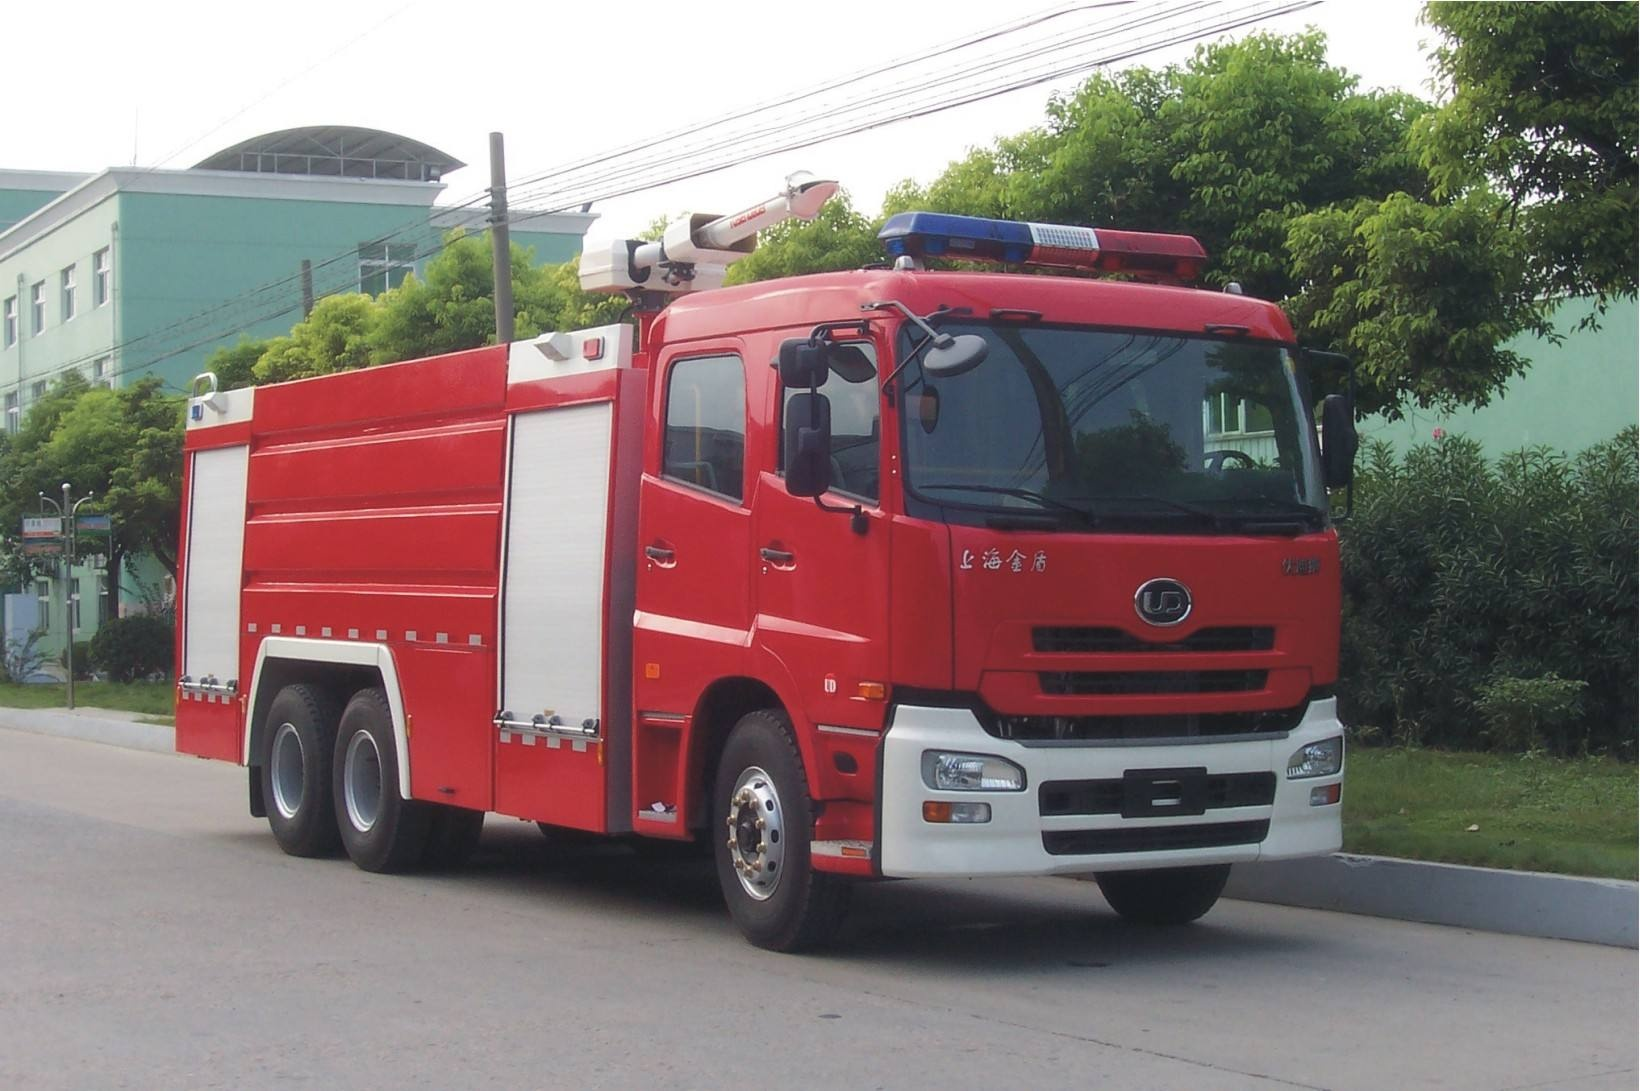fire engine: (127, 220, 1355, 958)
